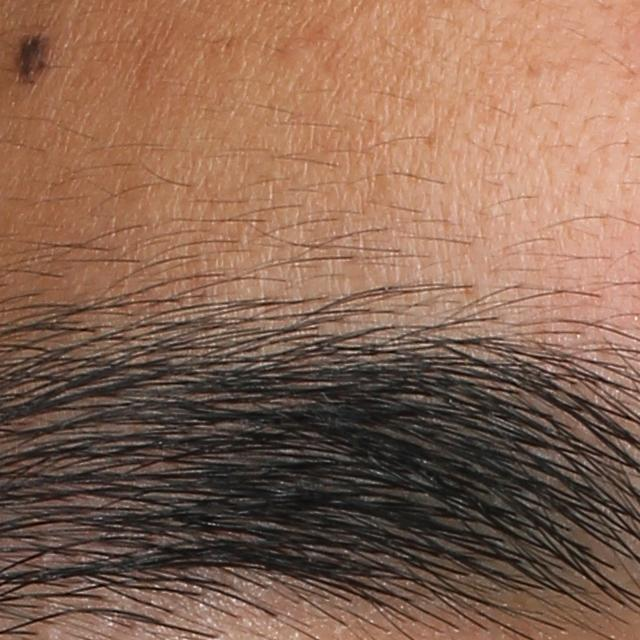nevus: (13, 32, 55, 84)
